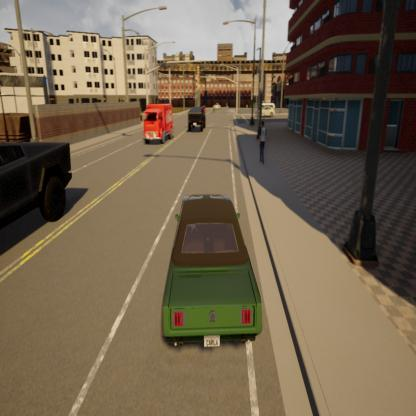Cars: (163, 192, 262, 351), (0, 140, 74, 230), (142, 101, 174, 148), (187, 104, 206, 135), (259, 99, 277, 116), (213, 102, 221, 115), (202, 105, 206, 114)
Pedestrian: (258, 117, 266, 161)
